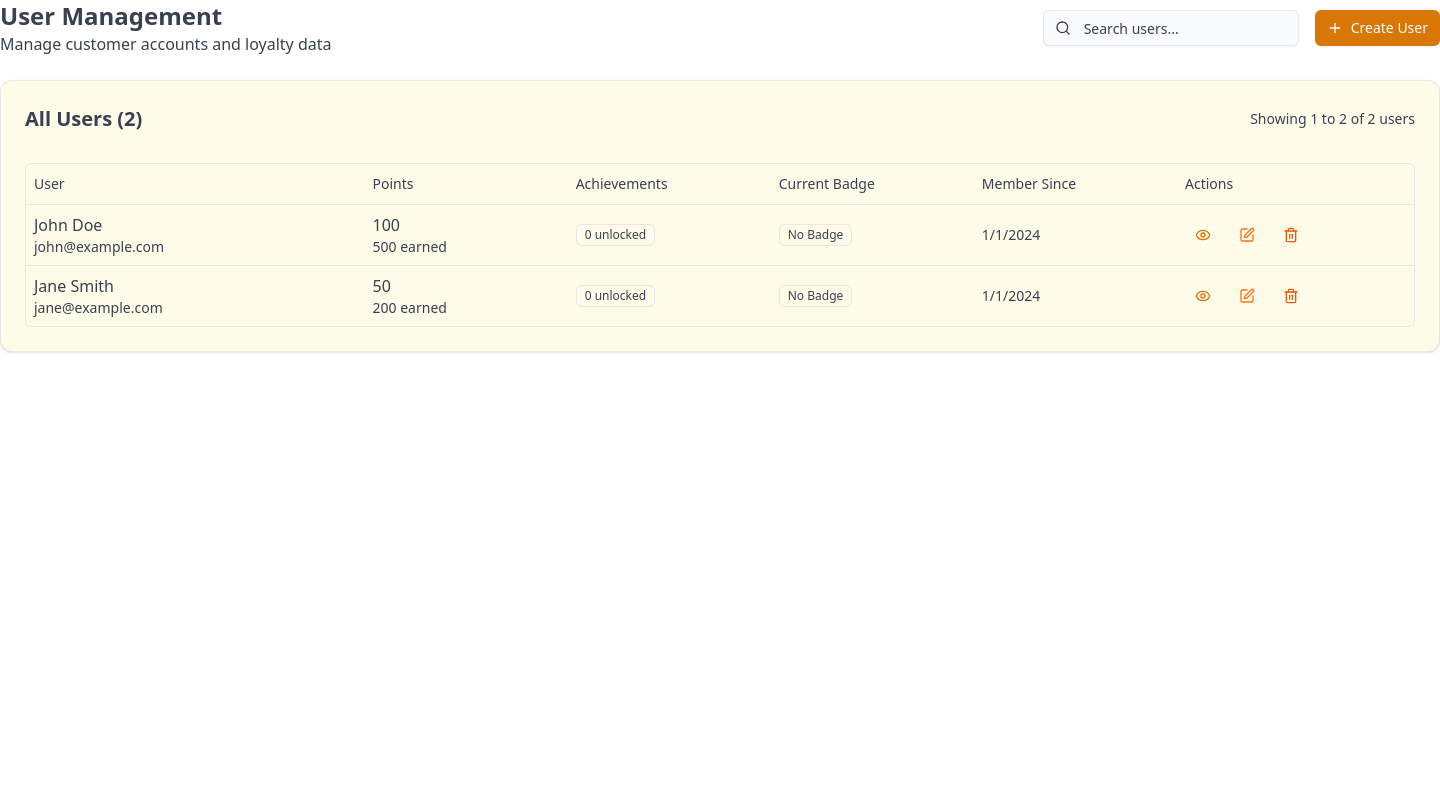
UserManagement Component › opens create user modal when Create User button is clicked
Click the button "Create User".
click(1377, 28)  # box [1315, 10, 1439, 46]
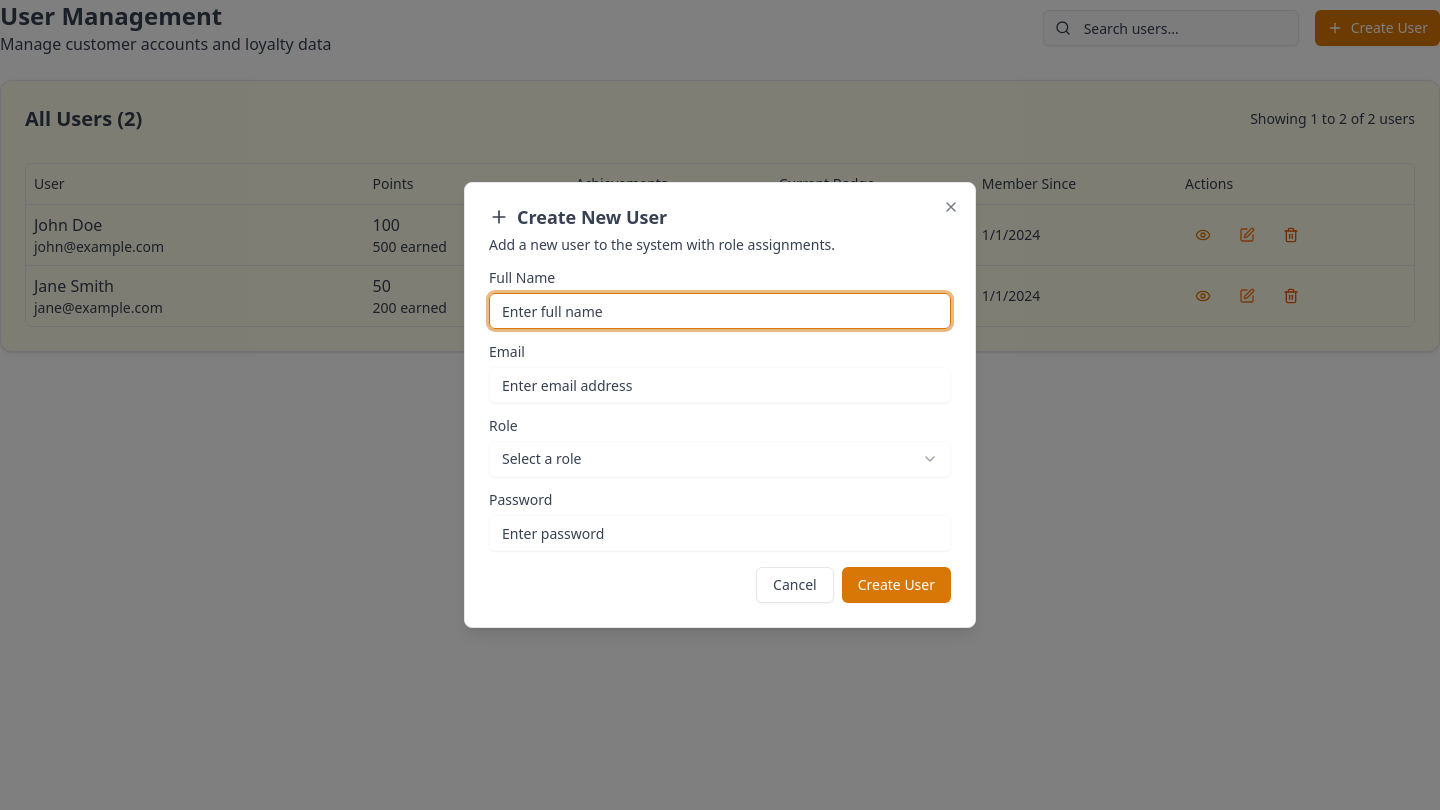
expect the heading "Create New User" is shown: met, box [489, 205, 667, 229]
